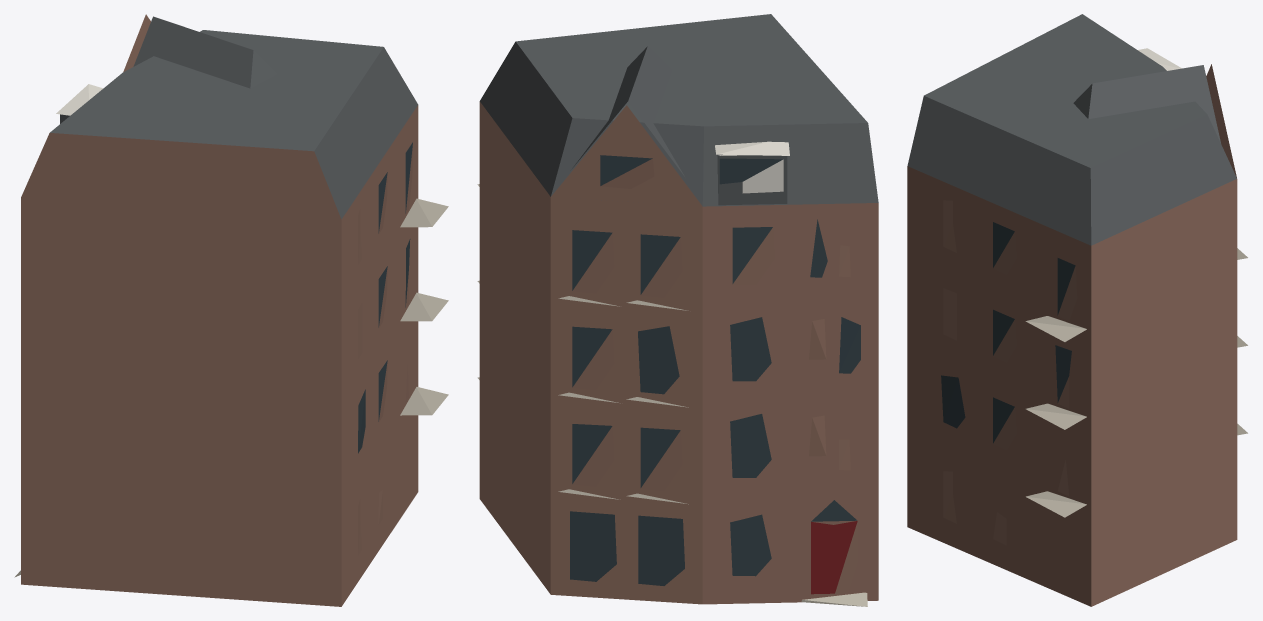
Rendered from da-costakade-13.lod2.glb.
3 renders of one model, left to right at view 1: azimuth 30°, elevation 25°; view 2: azimuth 150°, elevation 25°; view 3: azimuth 270°, elevation 25°, orthographic. The views are drawn at different scales.
Parts seen in each view (by area): view 1: lod2; view 2: lod2; view 3: lod2.
Boxes of the visible parts, x1,y1,x2,y2 form: lod2: [14, 14, 448, 606]; lod2: [477, 14, 878, 606]; lod2: [907, 14, 1247, 606].
Bounding box in the file's own units: 15.48 × 17.4 × 11.98.
